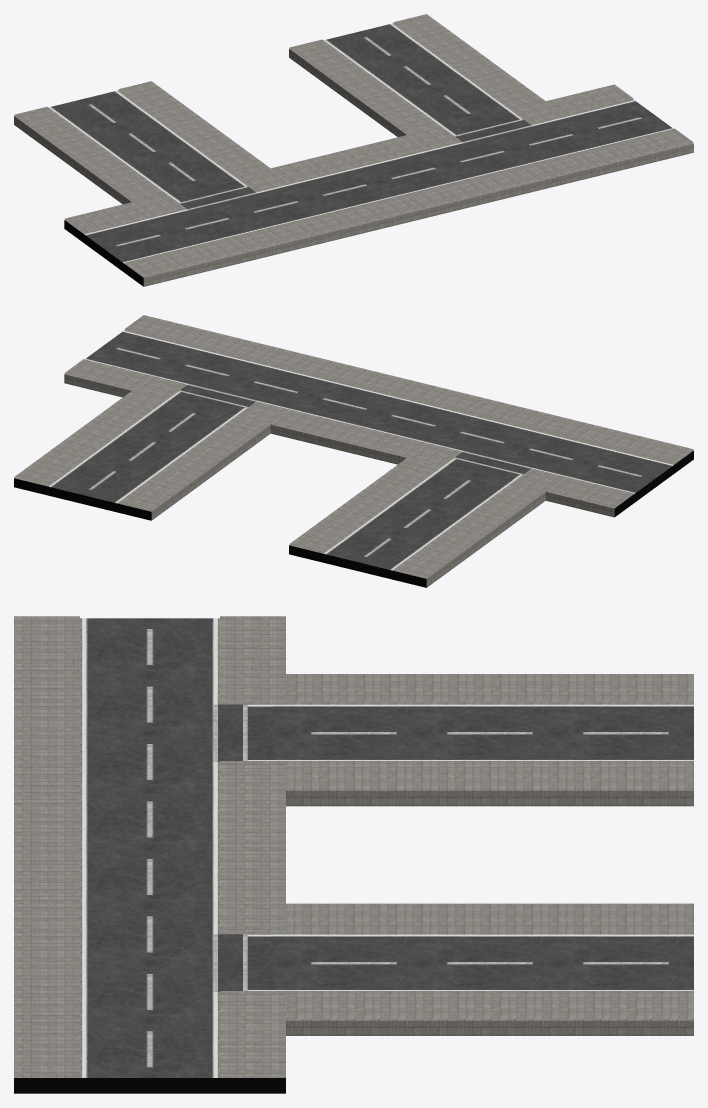
The model's file is doubleStraightJunct_3.fbx.
3 renders of one model, top to bottom at view 1: azimuth 30°, elevation 25°; view 2: azimuth 150°, elevation 25°; view 3: azimuth 270°, elevation 25°, orthographic. The views are drawn at different scales.
Parts seen in each view (by area): view 1: materialF0, materialA0, materialC0, materialE0, materialB0, materialD0; view 2: materialF0, materialA0, materialB0, materialC0, materialE0, materialD0; view 3: materialF0, materialA0, materialB0, materialC0, materialE0, materialD0.
Boxes of the visible parts, <box> form: materialF0: <box>14,14,693,286</box>; materialA0: <box>49,23,673,263</box>; materialC0: <box>171,113,521,202</box>; materialE0: <box>180,120,530,208</box>; materialB0: <box>64,220,143,286</box>; materialD0: <box>179,119,531,209</box>; materialF0: <box>14,315,693,587</box>; materialA0: <box>49,331,673,570</box>; materialB0: <box>14,450,693,587</box>; materialC0: <box>171,391,521,480</box>; materialE0: <box>180,385,530,473</box>; materialD0: <box>179,384,532,474</box>; materialF0: <box>14,616,693,1077</box>; materialA0: <box>82,618,693,1077</box>; materialB0: <box>14,1078,285,1093</box>; materialC0: <box>247,704,273,990</box>; materialE0: <box>218,704,242,991</box>; materialD0: <box>213,704,247,991</box>.
Size of the model in its own units: 102 by 1.8 by 64.
